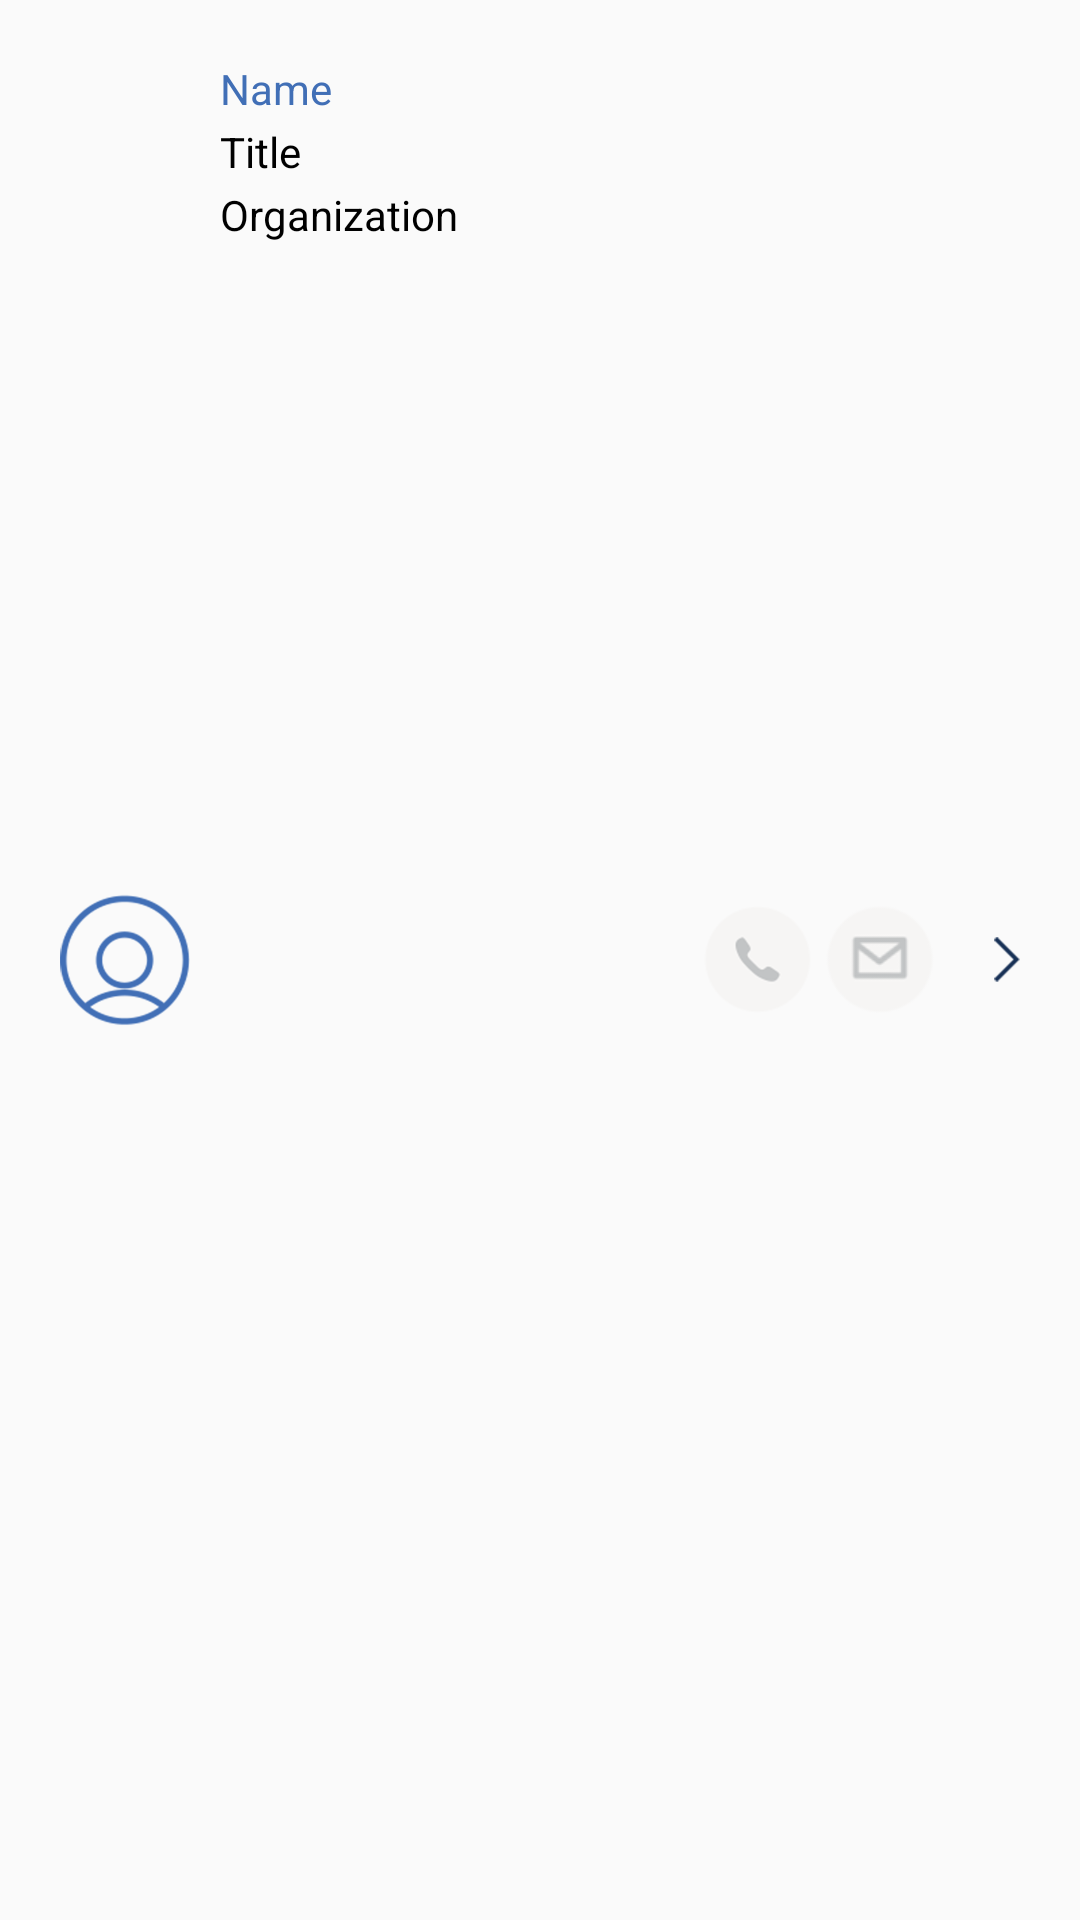

Icons on this 1080x1920 Android screen, each with its box as (x1, y1, x2, y2):
mail: (853, 937, 907, 979)
phone: (735, 937, 780, 982)
profile: (60, 895, 190, 1025)
right arrow: (994, 937, 1020, 982)
